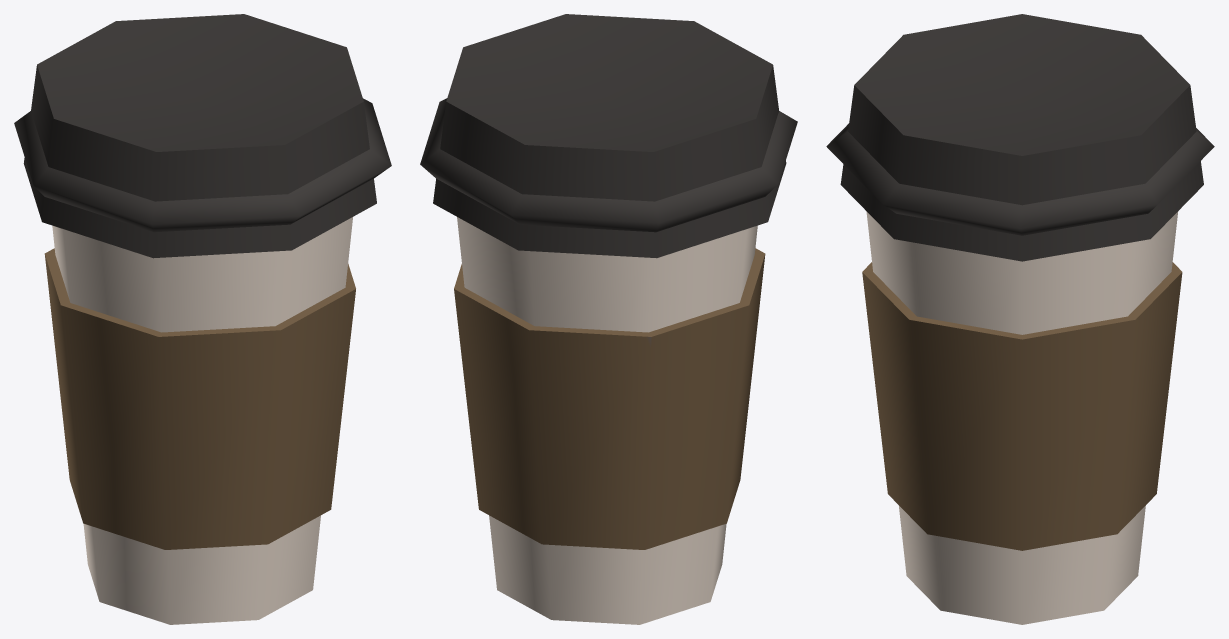
File: takeout coffee.FBX
3 renders of one model, left to right at view 1: azimuth 30°, elevation 25°; view 2: azimuth 150°, elevation 25°; view 3: azimuth 270°, elevation 25°, orthographic.
Visible parts, largest first — view 1: takeout coffee; view 2: takeout coffee; view 3: takeout coffee.
Part boxes in pixels (box(x1,y1,x2,y2)): takeout coffee: box(14, 14, 391, 624); takeout coffee: box(420, 14, 797, 624); takeout coffee: box(826, 14, 1214, 624).
Size of the model in its own units: 12.01 by 16.74 by 12.01.
1 material, 1 textured.
